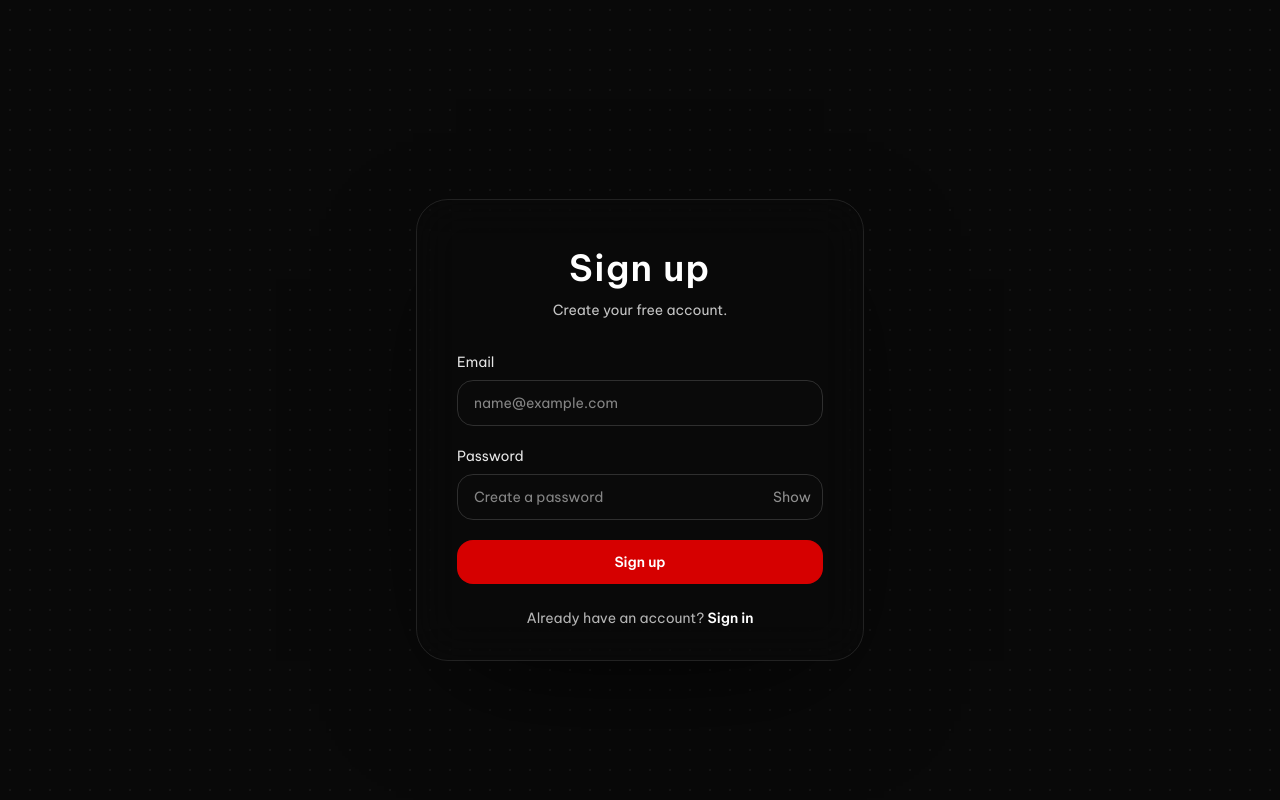
Test: RegisterPage › validates email format and password length
The width and height of the screenshot is (1280, 800).
In the field with placeholder "name@example.com": {"x": 640, "y": 403} [457,380,823,426], type "invalid-email"
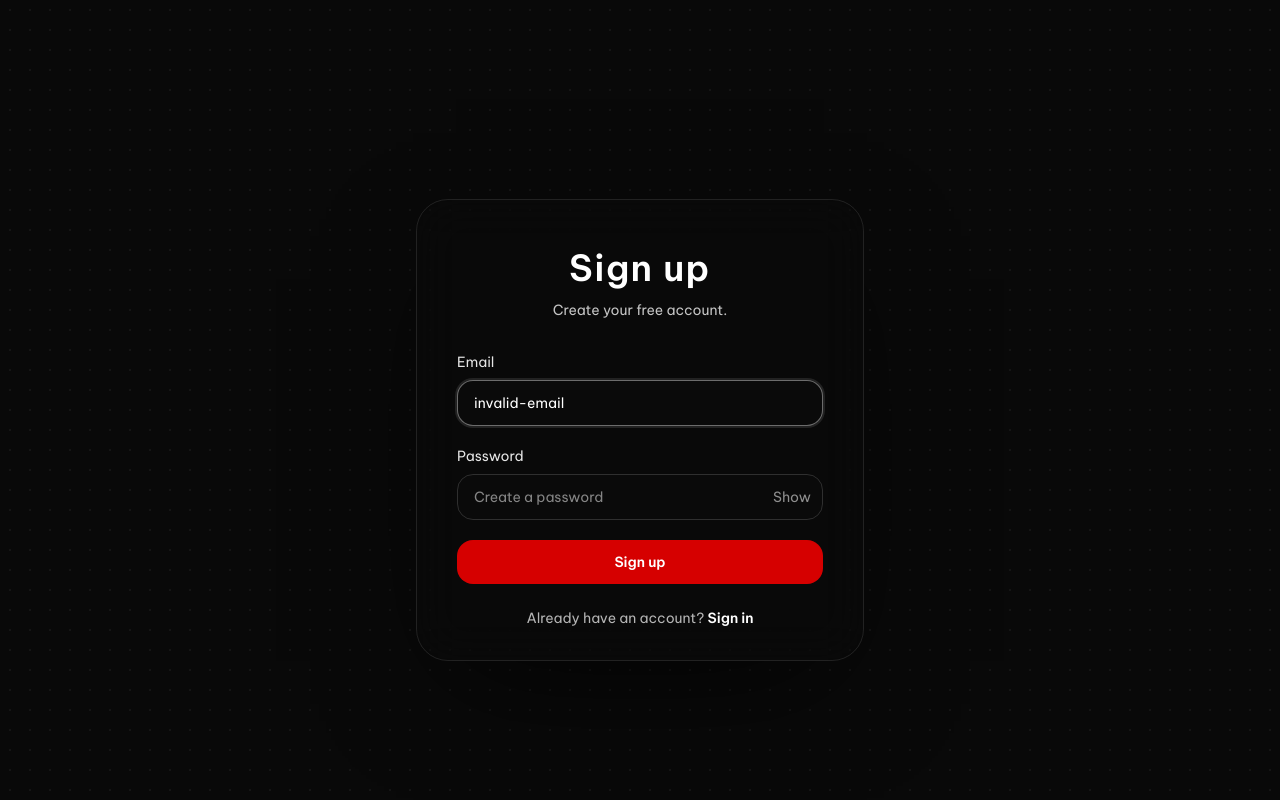
In the password field with placeholder "Create a password": {"x": 640, "y": 497} [457,474,823,520], type "short"
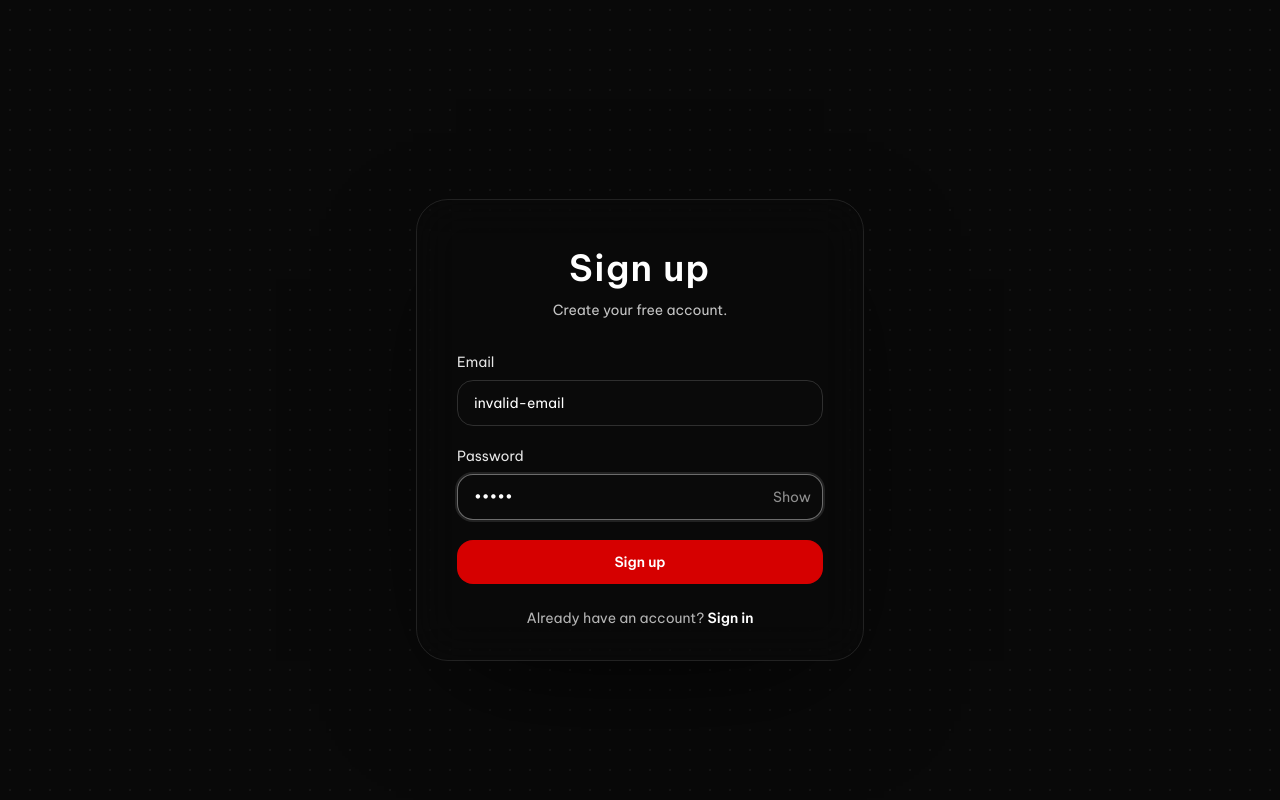
Click the button "Sign up": {"x": 640, "y": 562} [457,540,823,584]
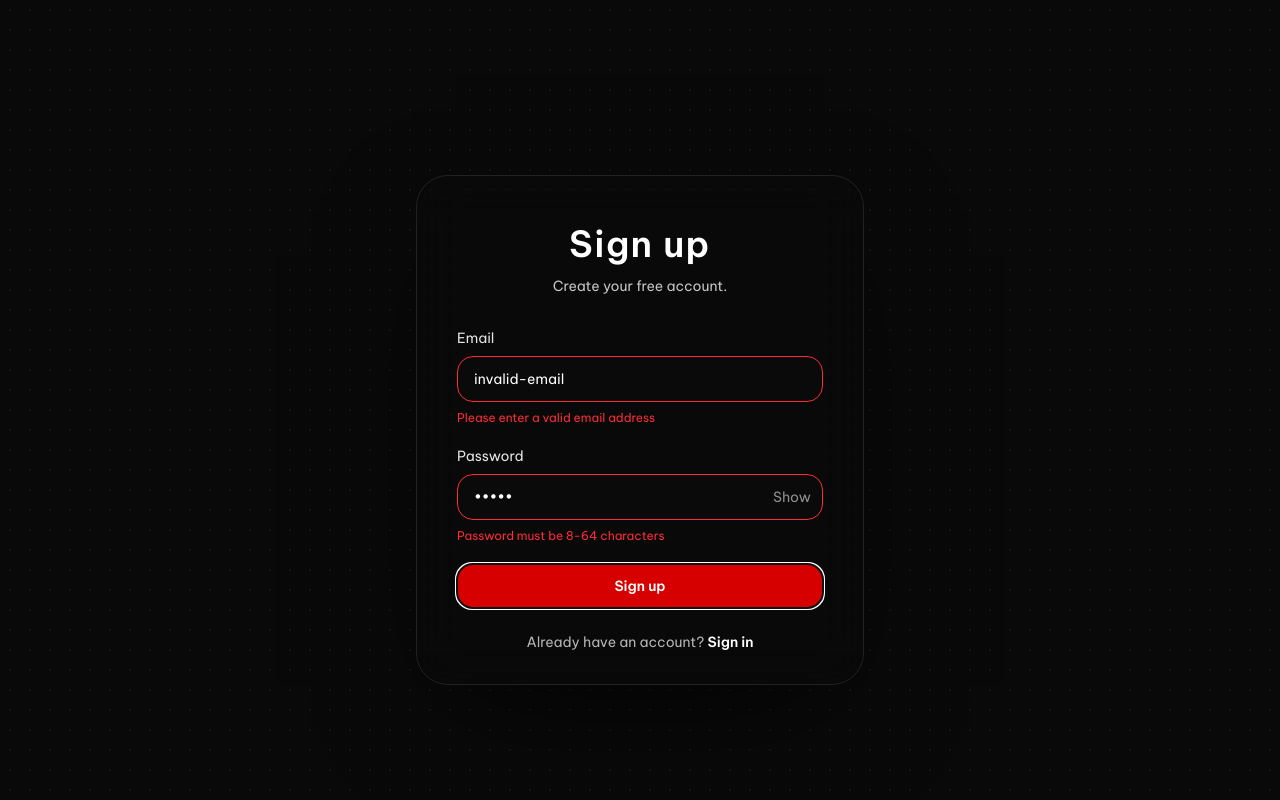
Check: the text "Please enter a valid email address" is shown, box [457,410,655,425]
Check: the text "Password must be 8-64 characters" is shown, box [457,528,664,543]
